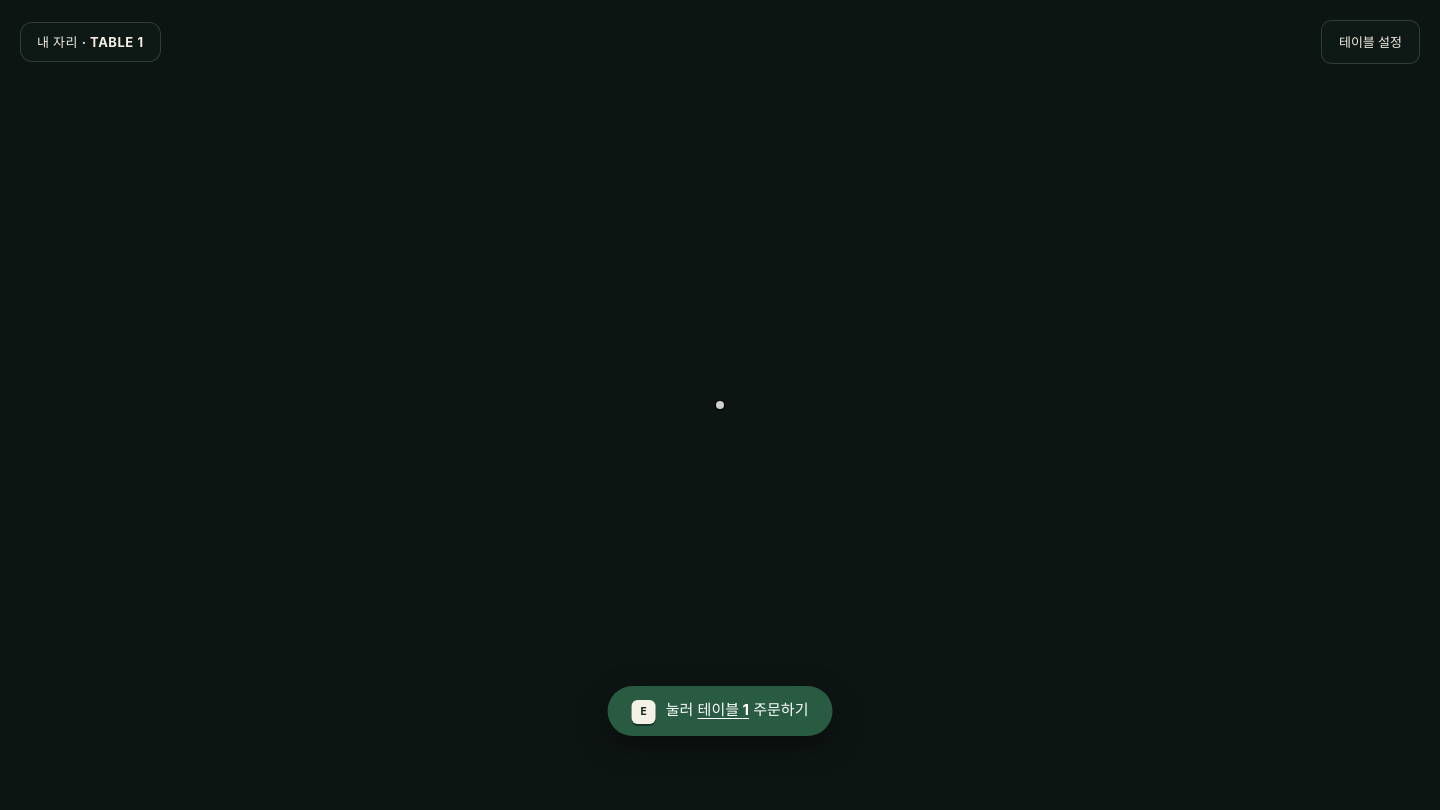
Test: paginates ten current orders at a time
The width and height of the screenshot is (1440, 810).
Press KeyE
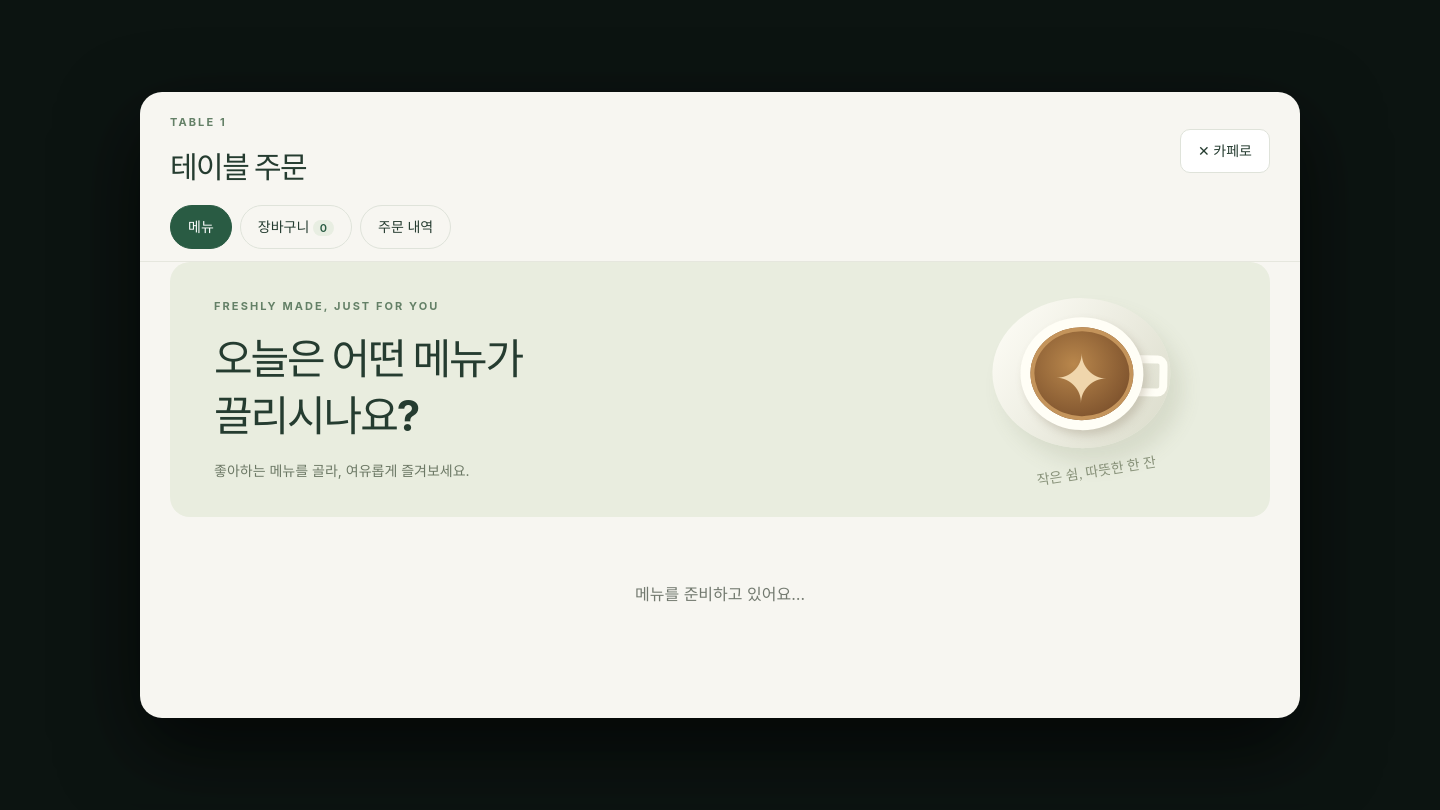
Click the button with test id "tab-orders": (406, 227) [360,205,451,249]
(page scrolled)
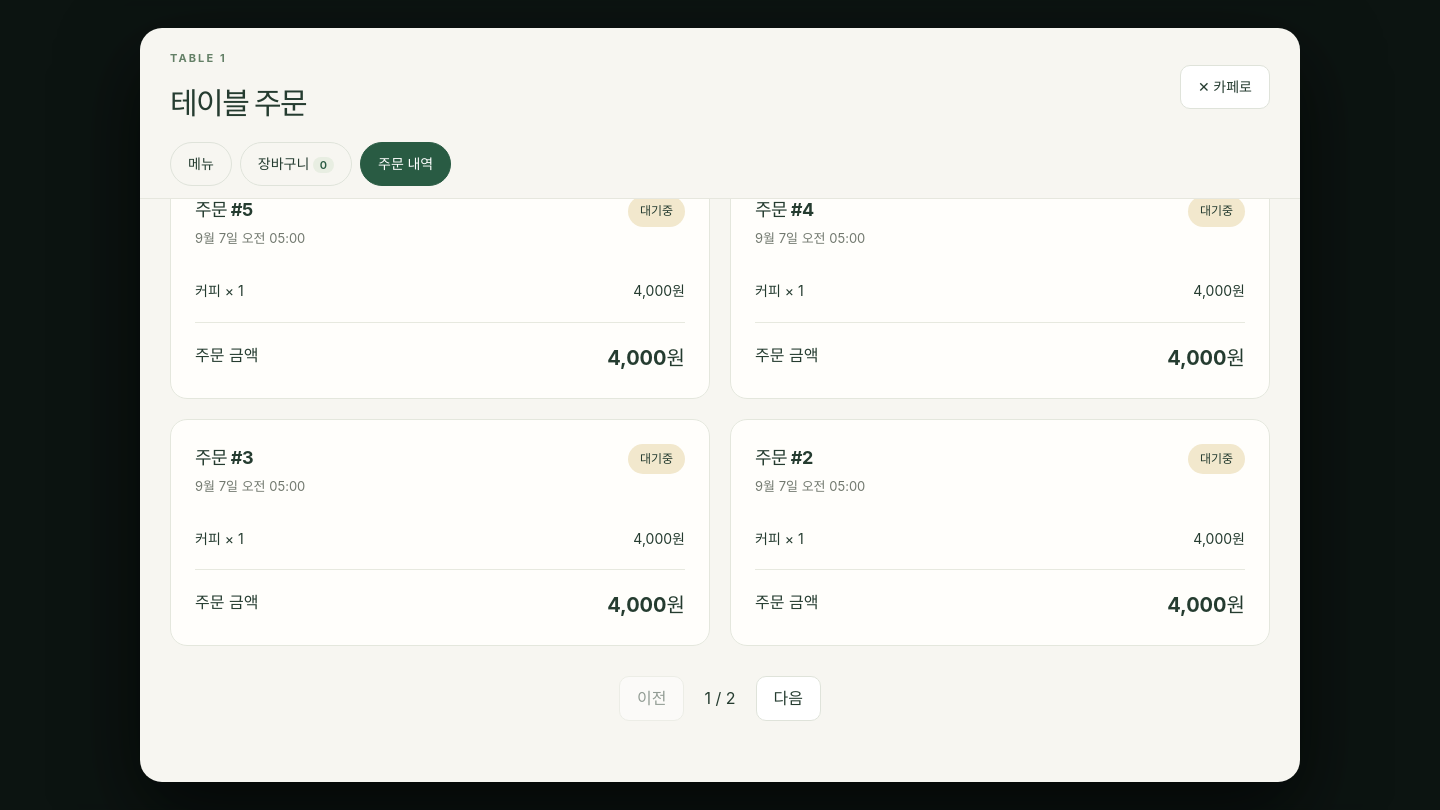
Expected: the heading "주문 #1" is not shown
Click the button with test id "orders-next-button": (788, 699) [756,676,821,721]
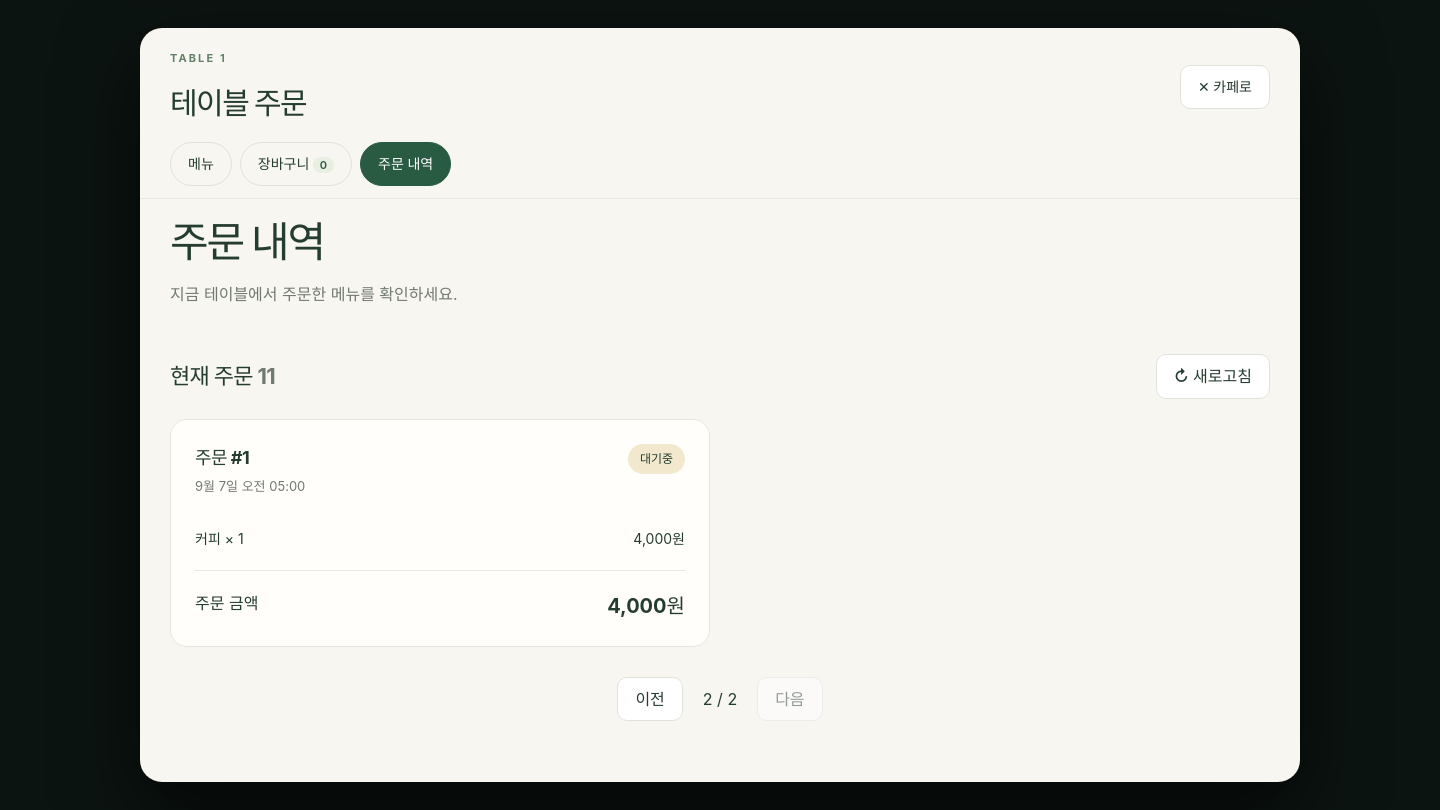
Expected: the heading "주문 #1" is shown, [195,447,249,468]
